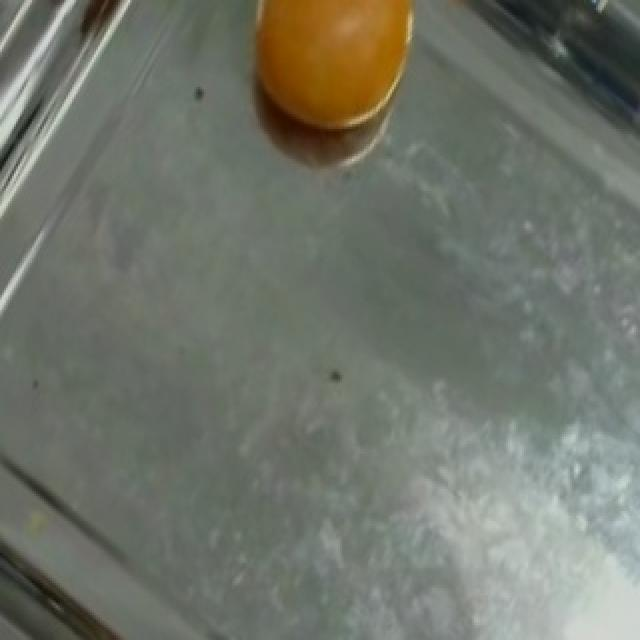Fruit: (224, 2, 442, 156)
